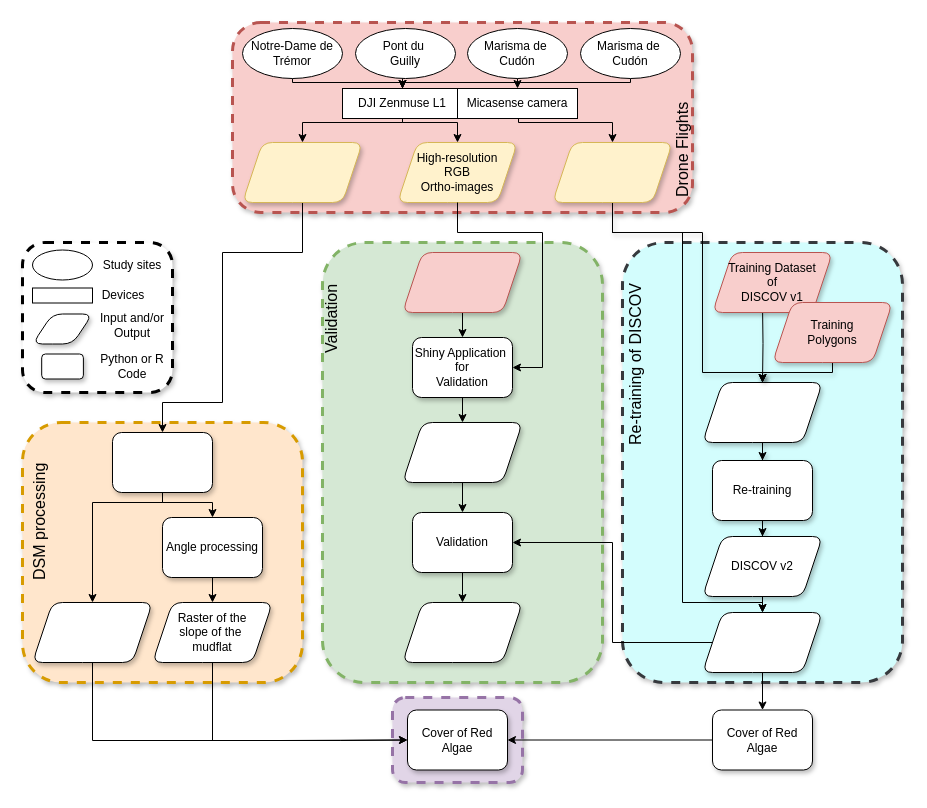
This 927x808 diagram has some shape labels left out. Each missing label, with the centre of its shape:
"Accuracy Score & Confusion matrix" goes at point 463,634.
"Alignment with Mean Sea Level" goes at point 163,464.
"Classification maps" goes at point 763,644.
"Independant Users" goes at point 463,284.
"LiDAR-derived Digital Surface Model" goes at point 303,174.
"Mean Sea Level Elevation" goes at point 93,634.
"Multispectral Ortho-images" goes at point 613,174.
"New Training Dataset" goes at point 763,414.
"Validation Dataset" goes at point 463,454.
